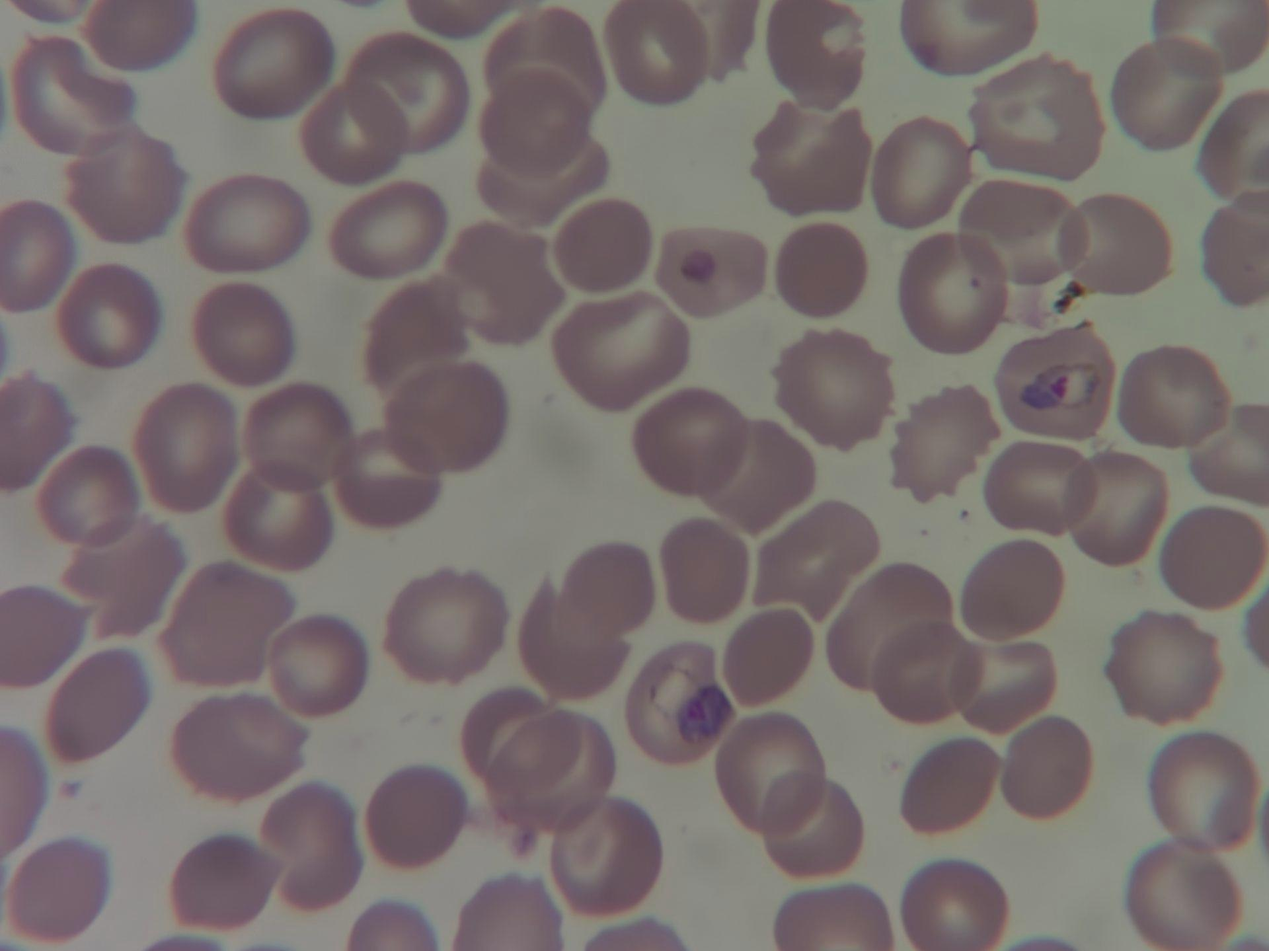Infected: (998, 318, 1122, 446), (626, 642, 736, 771)
Uninfected: (551, 294, 699, 408), (148, 565, 288, 684), (438, 212, 563, 345), (383, 562, 507, 687), (974, 58, 1104, 177), (176, 690, 304, 809), (489, 719, 621, 834), (388, 353, 517, 470), (758, 499, 881, 618), (551, 794, 667, 919), (828, 565, 944, 689), (13, 38, 140, 151), (348, 34, 466, 154), (899, 228, 1012, 353), (886, 384, 1003, 502), (66, 129, 187, 243), (773, 331, 892, 446), (1102, 613, 1222, 727), (952, 181, 1081, 287), (751, 102, 871, 215), (71, 518, 179, 643), (134, 386, 238, 514), (720, 714, 827, 838), (1110, 34, 1216, 158), (1128, 838, 1244, 951), (212, 11, 339, 114), (487, 12, 608, 120), (1053, 197, 1174, 304), (264, 785, 364, 913), (225, 461, 339, 572), (1152, 737, 1257, 855), (692, 419, 811, 522), (753, 772, 872, 874), (635, 391, 748, 498), (1062, 455, 1166, 571), (868, 613, 978, 722), (335, 421, 442, 531), (1124, 349, 1234, 456), (44, 644, 141, 765), (877, 113, 974, 233), (983, 437, 1102, 534), (370, 272, 466, 392), (304, 73, 407, 184), (62, 261, 162, 374), (361, 763, 474, 863), (465, 686, 577, 786), (185, 181, 313, 268), (333, 181, 449, 277), (950, 631, 1056, 734), (245, 388, 355, 487), (555, 540, 659, 644), (170, 836, 282, 932), (650, 228, 762, 324), (482, 133, 607, 218), (480, 65, 590, 161), (555, 197, 655, 299), (40, 446, 142, 545), (1163, 510, 1266, 608), (608, 0, 704, 104), (727, 604, 822, 709), (192, 287, 295, 383), (273, 613, 369, 716), (967, 534, 1063, 634), (663, 512, 751, 621), (1005, 719, 1096, 824), (908, 860, 1012, 951), (762, 5, 853, 108), (899, 737, 996, 833), (775, 225, 869, 321), (0, 195, 76, 305)
